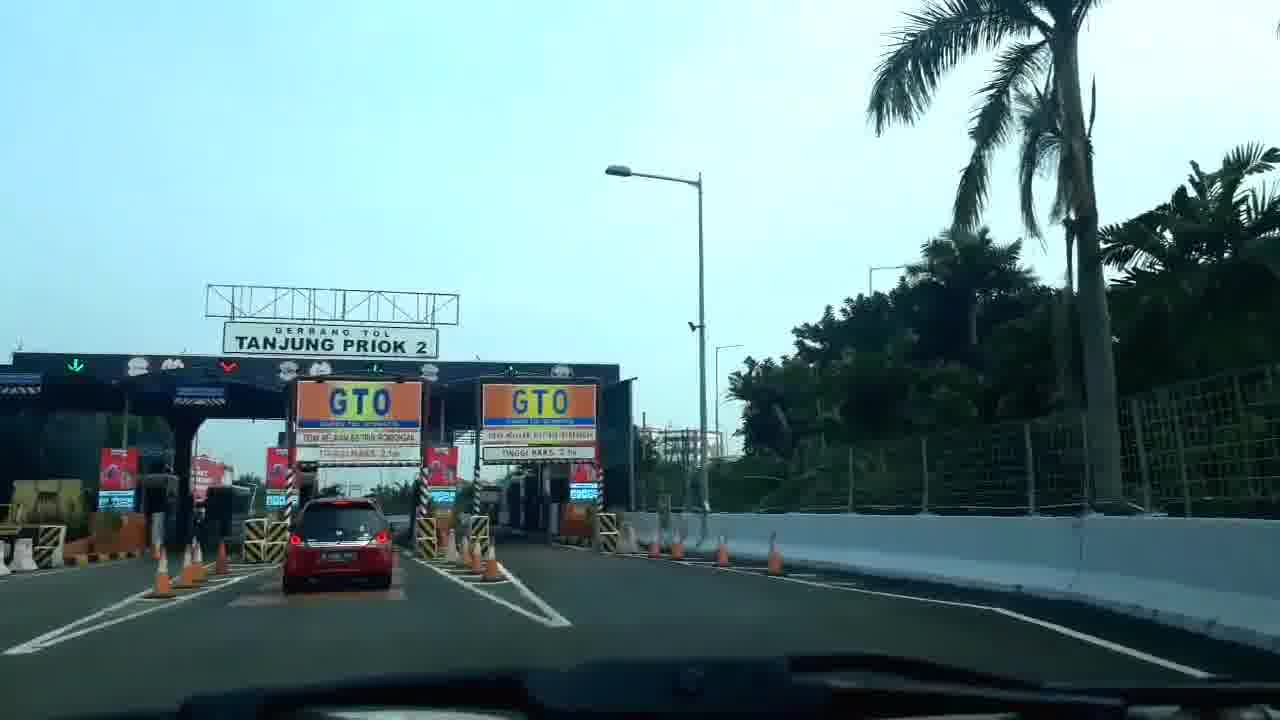plate_positive: (321, 551, 353, 562)
